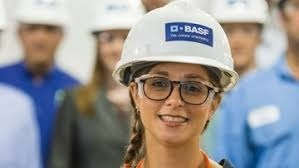helmet: (113, 1, 241, 83)
person with partial safety: (108, 2, 242, 168)
